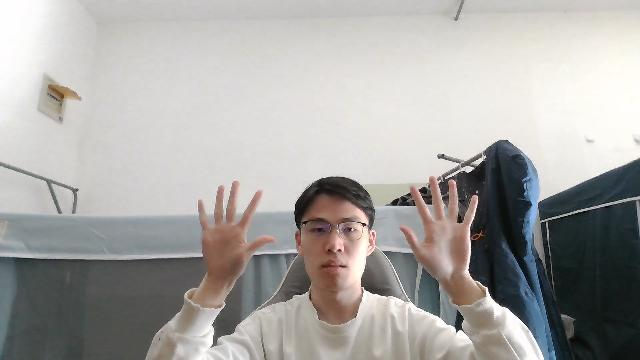five: (397, 173, 479, 285), (195, 178, 276, 288)
